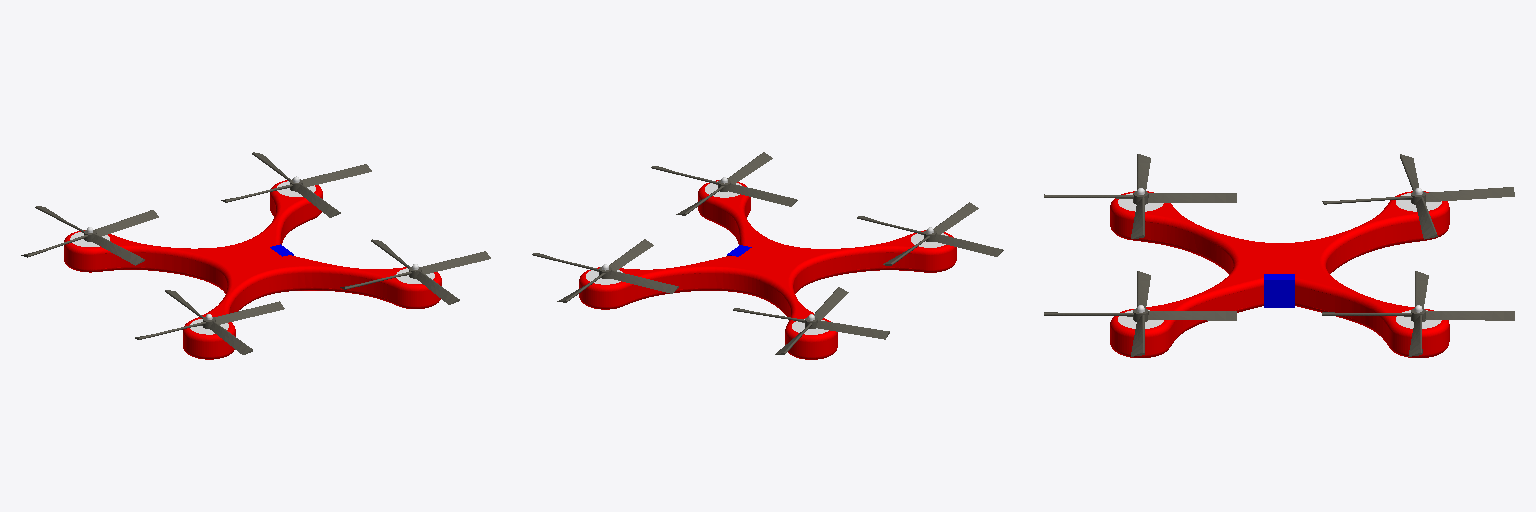
URDF robot description (drone):
<?xml version="1.0" ?>
<!-- Generated using onshape-to-robot -->
<!-- Onshape https://cad.onshape.com/documents/8ce9f31d0c89cc60c0292a4a/w/f89b084782826ebf4eea3b34/e/2ca1697785d5bc3856d06922 -->
<robot name="drone">
  <!-- Link link_drone_body -->
  <link name="link_drone_body">
    <inertial>
      <origin xyz="-0.000304819 -3.77332e-05 0.00999998" rpy="0 0 0"/>
      <mass value="0.27585"/>
      <inertia ixx="0.000944175" ixy="8.5525e-07" ixz="-1.878e-09" iyy="0.000942851" iyz="-2.499e-09" izz="0.0018689"/>
    </inertial>
    <!-- Part link_drone_body -->
    <visual>
      <origin xyz="-0.000276567 -8.03059e-05 0" rpy="0 -0 1.5708"/>
      <geometry>
        <mesh filename="package://assets/link_drone_body.stl"/>
      </geometry>
      <material name="link_drone_body_material">
        <color rgba="1 0 0 1"/>
      </material>
    </visual>
    <collision>
      <origin xyz="-0.000276567 -8.03059e-05 0" rpy="0 -0 1.5708"/>
      <geometry>
        <mesh filename="package://assets/link_drone_body.stl"/>
      </geometry>
    </collision>
  </link>
  <!-- Link link_motor_fl -->
  <link name="link_motor_fl">
    <inertial>
      <origin xyz="0 -0 -0.0101836" rpy="0 0 0"/>
      <mass value="0.114967"/>
      <inertia ixx="1.04865e-05" ixy="0" ixz="0" iyy="1.04865e-05" iyz="0" izz="1.27755e-05"/>
    </inertial>
    <!-- Part link_motor_fl -->
    <visual>
      <origin xyz="-0.09 -0.09 0" rpy="3.14159 -0 0"/>
      <geometry>
        <mesh filename="package://assets/link_motor_fl.stl"/>
      </geometry>
      <material name="link_motor_fl_material">
        <color rgba="0.917647 0.917647 0.917647 1"/>
      </material>
    </visual>
    <collision>
      <origin xyz="-0.09 -0.09 0" rpy="3.14159 -0 0"/>
      <geometry>
        <mesh filename="package://assets/link_motor_fl.stl"/>
      </geometry>
    </collision>
  </link>
  <!-- Link link_rotor_fl -->
  <link name="link_rotor_fl">
    <inertial>
      <origin xyz="0 0 0.00360712" rpy="0 0 0"/>
      <mass value="0.01"/>
      <inertia ixx="6.49463e-06" ixy="0" ixz="0" iyy="6.49463e-06" iyz="0" izz="1.29653e-05"/>
    </inertial>
    <!-- Part link_rotor_fl -->
    <visual>
      <origin xyz="0.0025 0.0015 0.0045" rpy="0 -0 0"/>
      <geometry>
        <mesh filename="package://assets/link_rotor_fl.stl"/>
      </geometry>
      <material name="link_rotor_fl_material">
        <color rgba="0.4 0.388235 0.34902 1"/>
      </material>
    </visual>
    <collision>
      <origin xyz="0.0025 0.0015 0.0045" rpy="0 -0 0"/>
      <geometry>
        <mesh filename="package://assets/link_rotor_fl.stl"/>
      </geometry>
    </collision>
  </link>
  <!-- Joint from link_motor_fl to link_rotor_fl -->
  <joint name="joint_rotor_FL" type="revolute">
    <origin xyz="0 0 -0.02" rpy="3.14159 -0 1.5708"/>
    <parent link="link_motor_fl"/>
    <child link="link_rotor_fl"/>
    <axis xyz="0 0 1"/>
    <limit effort="10" velocity="10" lower="-3.141592653589793" upper="3.141592653589793"/>
  </joint>
  <!-- Joint from link_drone_body to link_motor_fl -->
  <joint name="joint_motor_FL" type="fixed">
    <origin xyz="0.0897234 0.0899197 0" rpy="3.14159 -0 1.5708"/>
    <parent link="link_drone_body"/>
    <child link="link_motor_fl"/>
    <axis xyz="0 0 1"/>
    <limit effort="10" velocity="10"/>
  </joint>
  <!-- Link link_motor_rl -->
  <link name="link_motor_rl">
    <inertial>
      <origin xyz="0 0 -0.0101836" rpy="0 0 0"/>
      <mass value="0.114967"/>
      <inertia ixx="1.04865e-05" ixy="0" ixz="0" iyy="1.04865e-05" iyz="0" izz="1.27755e-05"/>
    </inertial>
    <!-- Part link_motor_rl -->
    <visual>
      <origin xyz="-0.09 0.09 0" rpy="3.14159 -0 0"/>
      <geometry>
        <mesh filename="package://assets/link_motor_rl.stl"/>
      </geometry>
      <material name="link_motor_rl_material">
        <color rgba="0.917647 0.917647 0.917647 1"/>
      </material>
    </visual>
    <collision>
      <origin xyz="-0.09 0.09 0" rpy="3.14159 -0 0"/>
      <geometry>
        <mesh filename="package://assets/link_motor_rl.stl"/>
      </geometry>
    </collision>
  </link>
  <!-- Link link_rotor_rl -->
  <link name="link_rotor_rl">
    <inertial>
      <origin xyz="-0 0 0.00360712" rpy="0 0 0"/>
      <mass value="0.01"/>
      <inertia ixx="6.49463e-06" ixy="0" ixz="0" iyy="6.49463e-06" iyz="0" izz="1.29653e-05"/>
    </inertial>
    <!-- Part link_rotor_rl -->
    <visual>
      <origin xyz="0.0025 0.0015 -0.0455" rpy="0 -0 0"/>
      <geometry>
        <mesh filename="package://assets/link_rotor_rl.stl"/>
      </geometry>
      <material name="link_rotor_rl_material">
        <color rgba="0.4 0.388235 0.34902 1"/>
      </material>
    </visual>
    <collision>
      <origin xyz="0.0025 0.0015 -0.0455" rpy="0 -0 0"/>
      <geometry>
        <mesh filename="package://assets/link_rotor_rl.stl"/>
      </geometry>
    </collision>
  </link>
  <!-- Joint from link_motor_rl to link_rotor_rl -->
  <joint name="joint_rotor_RL" type="revolute">
    <origin xyz="0 -0 -0.02" rpy="3.14159 -0 1.41078"/>
    <parent link="link_motor_rl"/>
    <child link="link_rotor_rl"/>
    <axis xyz="0 0 1"/>
    <limit effort="10" velocity="10" lower="-3.141592653589793" upper="3.141592653589793"/>
  </joint>
  <!-- Joint from link_drone_body to link_motor_rl -->
  <joint name="joint_motor_RL" type="fixed">
    <origin xyz="-0.0902766 0.0899197 0" rpy="3.14159 -0 1.5708"/>
    <parent link="link_drone_body"/>
    <child link="link_motor_rl"/>
    <axis xyz="0 0 1"/>
    <limit effort="10" velocity="10"/>
  </joint>
  <!-- Link link_motor_rr -->
  <link name="link_motor_rr">
    <inertial>
      <origin xyz="0 0 -0.0101836" rpy="0 0 0"/>
      <mass value="0.114967"/>
      <inertia ixx="1.04865e-05" ixy="0" ixz="0" iyy="1.04865e-05" iyz="0" izz="1.27755e-05"/>
    </inertial>
    <!-- Part link_motor_rr -->
    <visual>
      <origin xyz="0.09 0.09 0" rpy="3.14159 -0 0"/>
      <geometry>
        <mesh filename="package://assets/link_motor_rr.stl"/>
      </geometry>
      <material name="link_motor_rr_material">
        <color rgba="0.917647 0.917647 0.917647 1"/>
      </material>
    </visual>
    <collision>
      <origin xyz="0.09 0.09 0" rpy="3.14159 -0 0"/>
      <geometry>
        <mesh filename="package://assets/link_motor_rr.stl"/>
      </geometry>
    </collision>
  </link>
  <!-- Link link_rotor_rr -->
  <link name="link_rotor_rr">
    <inertial>
      <origin xyz="0 0 0.00360712" rpy="0 0 0"/>
      <mass value="0.01"/>
      <inertia ixx="6.49463e-06" ixy="0" ixz="0" iyy="6.49463e-06" iyz="0" izz="1.29653e-05"/>
    </inertial>
    <!-- Part link_rotor_rr -->
    <visual>
      <origin xyz="0.0025 0.0015 -0.0705" rpy="0 -0 0"/>
      <geometry>
        <mesh filename="package://assets/link_rotor_rr.stl"/>
      </geometry>
      <material name="link_rotor_rr_material">
        <color rgba="0.4 0.388235 0.34902 1"/>
      </material>
    </visual>
    <collision>
      <origin xyz="0.0025 0.0015 -0.0705" rpy="0 -0 0"/>
      <geometry>
        <mesh filename="package://assets/link_rotor_rr.stl"/>
      </geometry>
    </collision>
  </link>
  <!-- Joint from link_motor_rr to link_rotor_rr -->
  <joint name="joint_rotor_RR" type="revolute">
    <origin xyz="-0 0 -0.02" rpy="3.14159 -0 1.5708"/>
    <parent link="link_motor_rr"/>
    <child link="link_rotor_rr"/>
    <axis xyz="0 0 1"/>
    <limit effort="10" velocity="10" lower="-3.141592653589793" upper="3.141592653589793"/>
  </joint>
  <!-- Joint from link_drone_body to link_motor_rr -->
  <joint name="joint_motor_RR" type="fixed">
    <origin xyz="-0.0902766 -0.0900803 0" rpy="3.14159 -0 1.5708"/>
    <parent link="link_drone_body"/>
    <child link="link_motor_rr"/>
    <axis xyz="0 0 1"/>
    <limit effort="10" velocity="10"/>
  </joint>
  <!-- Link link_motor_fr -->
  <link name="link_motor_fr">
    <inertial>
      <origin xyz="0 -0 -0.0101836" rpy="0 0 0"/>
      <mass value="0.114967"/>
      <inertia ixx="1.04865e-05" ixy="0" ixz="0" iyy="1.04865e-05" iyz="0" izz="1.27755e-05"/>
    </inertial>
    <!-- Part link_motor_fr -->
    <visual>
      <origin xyz="0.09 -0.09 0" rpy="3.14159 -0 0"/>
      <geometry>
        <mesh filename="package://assets/link_motor_fr.stl"/>
      </geometry>
      <material name="link_motor_fr_material">
        <color rgba="0.917647 0.917647 0.917647 1"/>
      </material>
    </visual>
    <collision>
      <origin xyz="0.09 -0.09 0" rpy="3.14159 -0 0"/>
      <geometry>
        <mesh filename="package://assets/link_motor_fr.stl"/>
      </geometry>
    </collision>
  </link>
  <!-- Link link_rotor_fr -->
  <link name="link_rotor_fr">
    <inertial>
      <origin xyz="-0 0 0.00360712" rpy="0 0 0"/>
      <mass value="0.01"/>
      <inertia ixx="6.49463e-06" ixy="0" ixz="0" iyy="6.49463e-06" iyz="0" izz="1.29653e-05"/>
    </inertial>
    <!-- Part link_rotor_fr -->
    <visual>
      <origin xyz="0.0025 0.0015 -0.0205" rpy="0 -0 0"/>
      <geometry>
        <mesh filename="package://assets/link_rotor_fr.stl"/>
      </geometry>
      <material name="link_rotor_fr_material">
        <color rgba="0.4 0.388235 0.34902 1"/>
      </material>
    </visual>
    <collision>
      <origin xyz="0.0025 0.0015 -0.0205" rpy="0 -0 0"/>
      <geometry>
        <mesh filename="package://assets/link_rotor_fr.stl"/>
      </geometry>
    </collision>
  </link>
  <!-- Joint from link_motor_fr to link_rotor_fr -->
  <joint name="joint_rotor_FR" type="revolute">
    <origin xyz="0 0 -0.02" rpy="3.14159 -0 1.5708"/>
    <parent link="link_motor_fr"/>
    <child link="link_rotor_fr"/>
    <axis xyz="0 0 1"/>
    <limit effort="10" velocity="10" lower="-3.141592653589793" upper="3.141592653589793"/>
  </joint>
  <!-- Joint from link_drone_body to link_motor_fr -->
  <joint name="joint_motor_FR" type="fixed">
    <origin xyz="0.0897234 -0.0900803 0" rpy="3.14159 -0 1.5708"/>
    <parent link="link_drone_body"/>
    <child link="link_motor_fr"/>
    <axis xyz="0 0 1"/>
    <limit effort="10" velocity="10"/>
  </joint>
  <!-- Link link_imu -->
  <link name="link_imu">
    <inertial>
      <origin xyz="0 0 -0.0025" rpy="0 0 0"/>
      <mass value="0.01"/>
      <inertia ixx="1.04167e-07" ixy="0" ixz="0" iyy="1.04167e-07" iyz="0" izz="1.66667e-07"/>
    </inertial>
    <!-- Part link_imu -->
    <visual>
      <origin xyz="-0 -0 0" rpy="3.14159 -0 0"/>
      <geometry>
        <mesh filename="package://assets/link_imu.stl"/>
      </geometry>
      <material name="link_imu_material">
        <color rgba="0.980392 0.713725 0.00392157 1"/>
      </material>
    </visual>
    <collision>
      <origin xyz="-0 -0 0" rpy="3.14159 -0 0"/>
      <geometry>
        <mesh filename="package://assets/link_imu.stl"/>
      </geometry>
    </collision>
  </link>
  <!-- Joint from link_drone_body to link_imu -->
  <joint name="joint_imu" type="fixed">
    <origin xyz="-0.000276567 -8.03059e-05 0.005" rpy="3.14159 -0 1.5708"/>
    <parent link="link_drone_body"/>
    <child link="link_imu"/>
    <axis xyz="0 0 1"/>
    <limit effort="10" velocity="10"/>
  </joint>
  <!-- Link link_camera -->
  <link name="link_camera">
    <inertial>
      <origin xyz="-0 0 -0.005" rpy="0 0 0"/>
      <mass value="0.01"/>
      <inertia ixx="4.16667e-07" ixy="0" ixz="0" iyy="4.16667e-07" iyz="0" izz="6.66667e-07"/>
    </inertial>
    <!-- Part link_camera -->
    <visual>
      <origin xyz="-0 0 0" rpy="1.5708 -0 0"/>
      <geometry>
        <mesh filename="package://assets/link_camera.stl"/>
      </geometry>
      <material name="link_camera_material">
        <color rgba="0 0 1 1"/>
      </material>
    </visual>
    <collision>
      <origin xyz="-0 0 0" rpy="1.5708 -0 0"/>
      <geometry>
        <mesh filename="package://assets/link_camera.stl"/>
      </geometry>
    </collision>
  </link>
  <!-- Joint from link_drone_body to link_camera -->
  <joint name="joint_camera" type="fixed">
    <origin xyz="0.0197234 -8.03059e-05 0.01" rpy="-1.5708 -0 1.5708"/>
    <parent link="link_drone_body"/>
    <child link="link_camera"/>
    <axis xyz="0 0 1"/>
    <limit effort="10" velocity="10"/>
  </joint>
</robot>

--- Render facts (derived) ---
Views: 3 orthographic renders of the robot side by side, from view 1: azimuth 30°, elevation 25°; view 2: azimuth 150°, elevation 25°; view 3: azimuth 270°, elevation 25°.
Model drone with 11 links and 10 joints (4 revolute, 6 fixed), rooted at link_drone_body, posed all joints at 0.
Links seen in each view (by area): view 1: link_drone_body, link_rotor_fl, link_rotor_rl, link_rotor_fr, link_rotor_rr; view 2: link_drone_body, link_rotor_rl, link_rotor_fr, link_rotor_fl, link_rotor_rr; view 3: link_drone_body, link_rotor_rr, link_rotor_rl, link_rotor_fr, link_rotor_fl, link_camera.
Link boxes in pixels (x1,y1,x2,y2): link_drone_body: (64,180,441,359); link_rotor_fl: (221,152,371,217); link_rotor_rl: (21,206,158,265); link_rotor_fr: (340,239,490,304); link_rotor_rr: (135,290,284,354); link_drone_body: (579,180,956,359); link_rotor_rl: (733,287,889,354); link_rotor_fr: (651,152,797,215); link_rotor_fl: (532,239,678,302); link_rotor_rr: (857,202,1003,265); link_drone_body: (1110,191,1449,357); link_rotor_rr: (1044,154,1236,238); link_rotor_rl: (1322,154,1514,239); link_rotor_fr: (1044,271,1236,356); link_rotor_fl: (1322,271,1514,356); link_camera: (1264,274,1294,307).
Size in the robot's own frame: 0.3053 by 0.3053 by 0.03 metres.
11 mesh visuals loaded from 11 distinct referenced files (11 binary STL).
